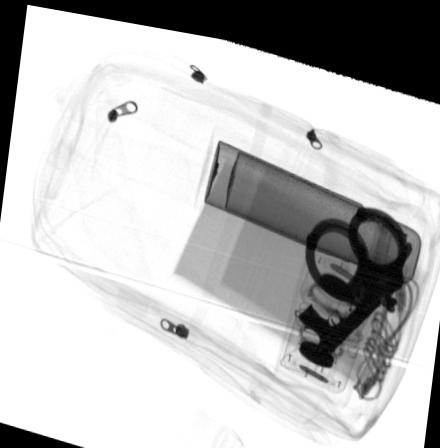Gun: (296, 277, 379, 341)
HandCuffs: (303, 192, 412, 299)
